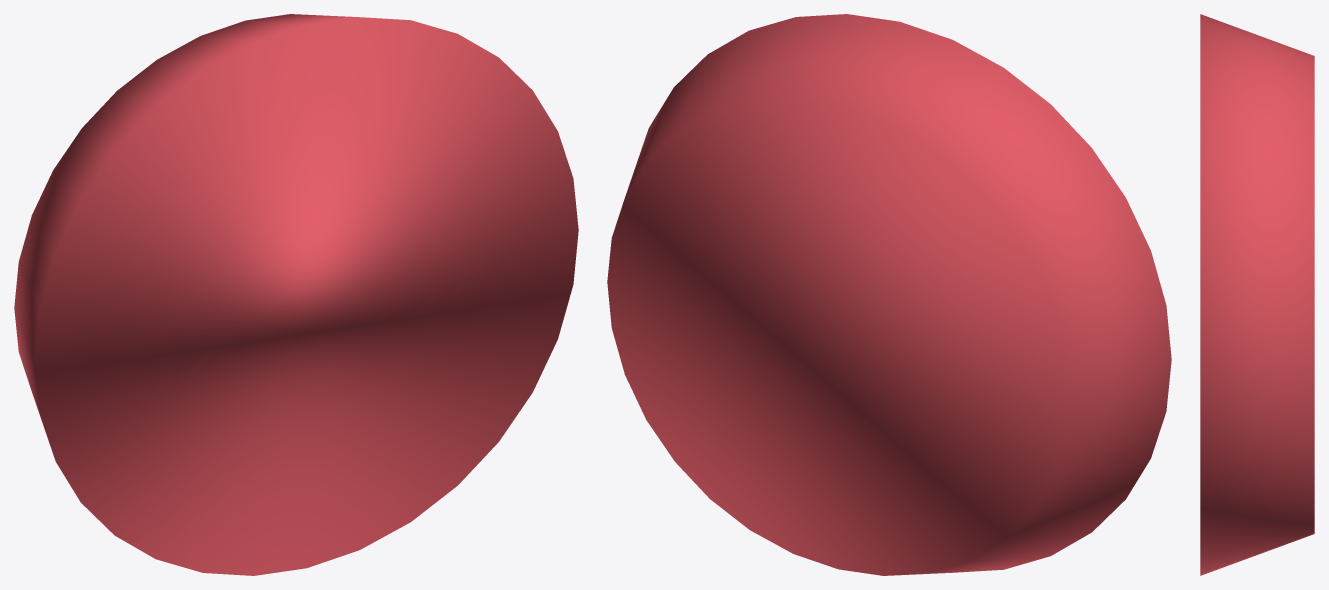
Rendered from sosis dilim.fbx.
3 renders of one model, left to right at view 1: azimuth 30°, elevation 25°; view 2: azimuth 150°, elevation 25°; view 3: azimuth 270°, elevation 25°, orthographic. The views are drawn at different scales.
Parts seen in each view (by area): view 1: Sphere.004; view 2: Sphere.004; view 3: Sphere.004.
Boxes of the visible parts, x1,y1,x2,y2 form: Sphere.004: (14, 14, 578, 575); Sphere.004: (607, 14, 1171, 575); Sphere.004: (1200, 14, 1314, 575).
Size of the model in its own units: 130 by 124 by 25.43.
